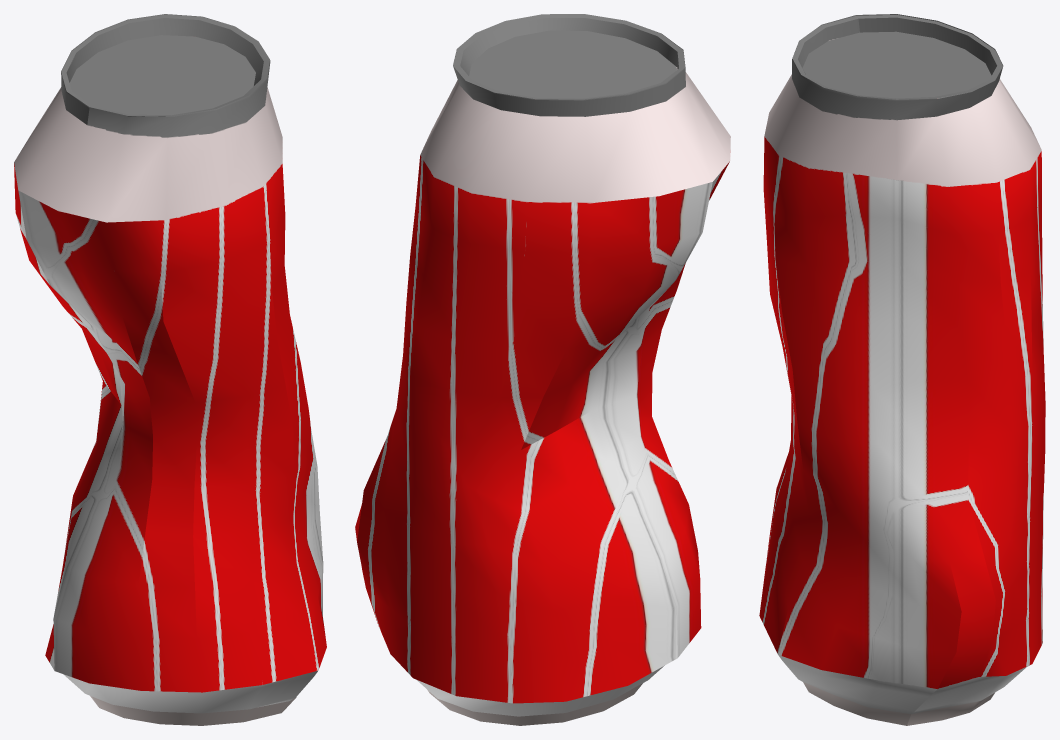
File: Lata de coca.fbx
3 views of the same model, side by side, from view 1: azimuth 30°, elevation 25°; view 2: azimuth 150°, elevation 25°; view 3: azimuth 270°, elevation 25° (orthographic). The views are drawn at different scales.
Parts seen in each view (by area): view 1: Cylinder; view 2: Cylinder; view 3: Cylinder.
Part boxes in pixels (left/top/right/bottom): Cylinder: left=14, top=14, right=326, bottom=725; Cylinder: left=355, top=14, right=730, bottom=725; Cylinder: left=759, top=14, right=1045, bottom=725.
Bounding box in the file's own units: 7.63 × 14.29 × 6.07.
Materials: 1 (1 with a texture image).
